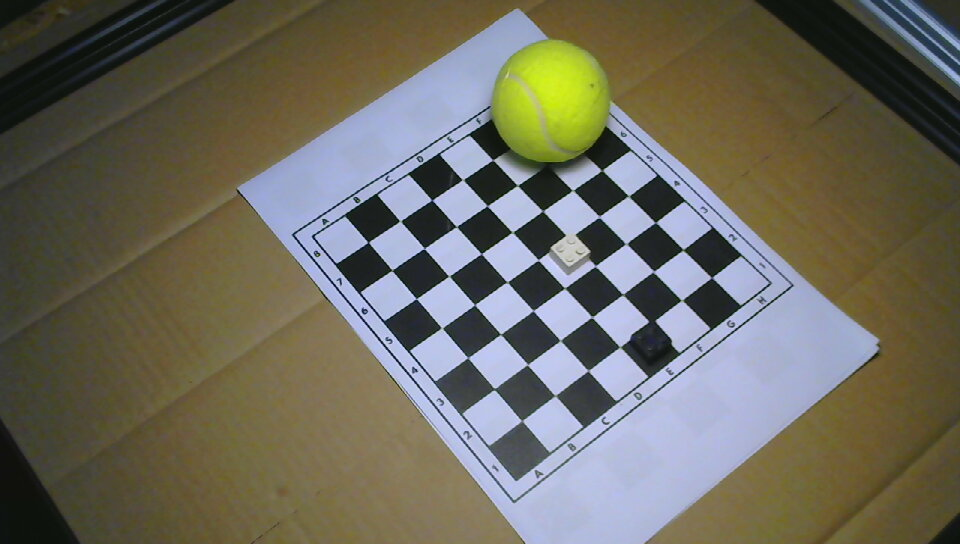bp: (631, 322, 672, 365)
wp: (549, 234, 591, 275)
